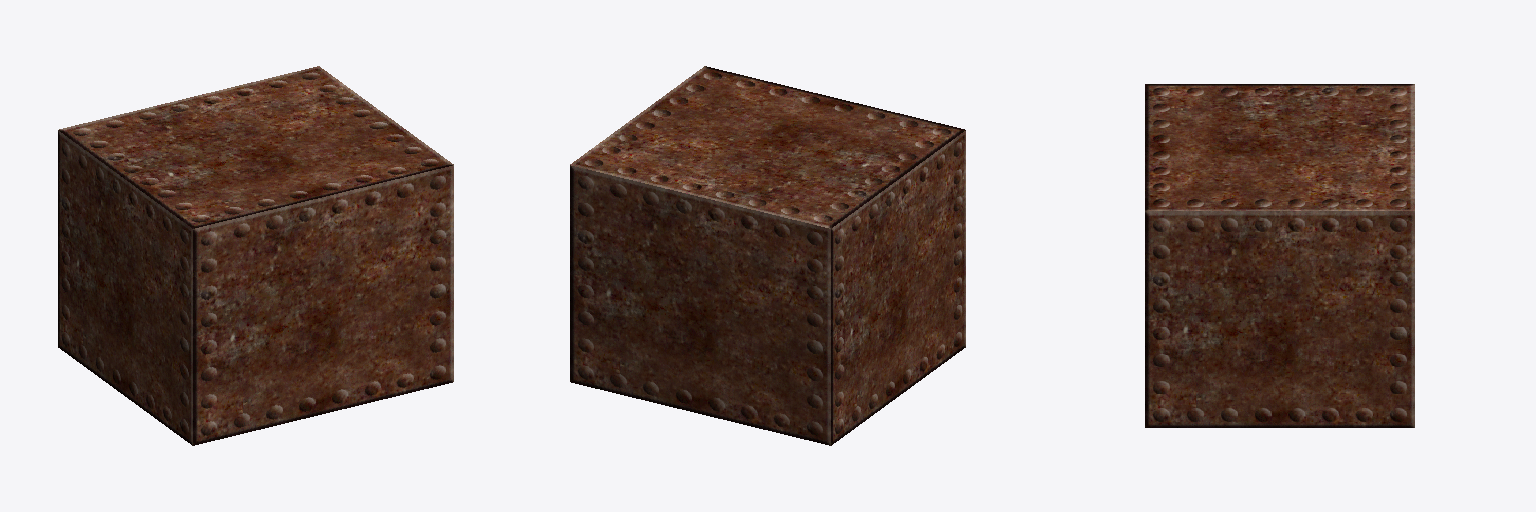
3 views of the same model, side by side, from view 1: azimuth 30°, elevation 25°; view 2: azimuth 150°, elevation 25°; view 3: azimuth 270°, elevation 25° (orthographic).
Visible parts, largest first — view 1: g0; view 2: g0; view 3: g0.
Part boxes in pixels (x1,y1,x2,y2): g0: (58, 66, 453, 445); g0: (570, 66, 965, 445); g0: (1145, 84, 1414, 427).
Size of the model in its own units: 2.3 by 1.82 by 2.06.
1 materials, 1 textured.